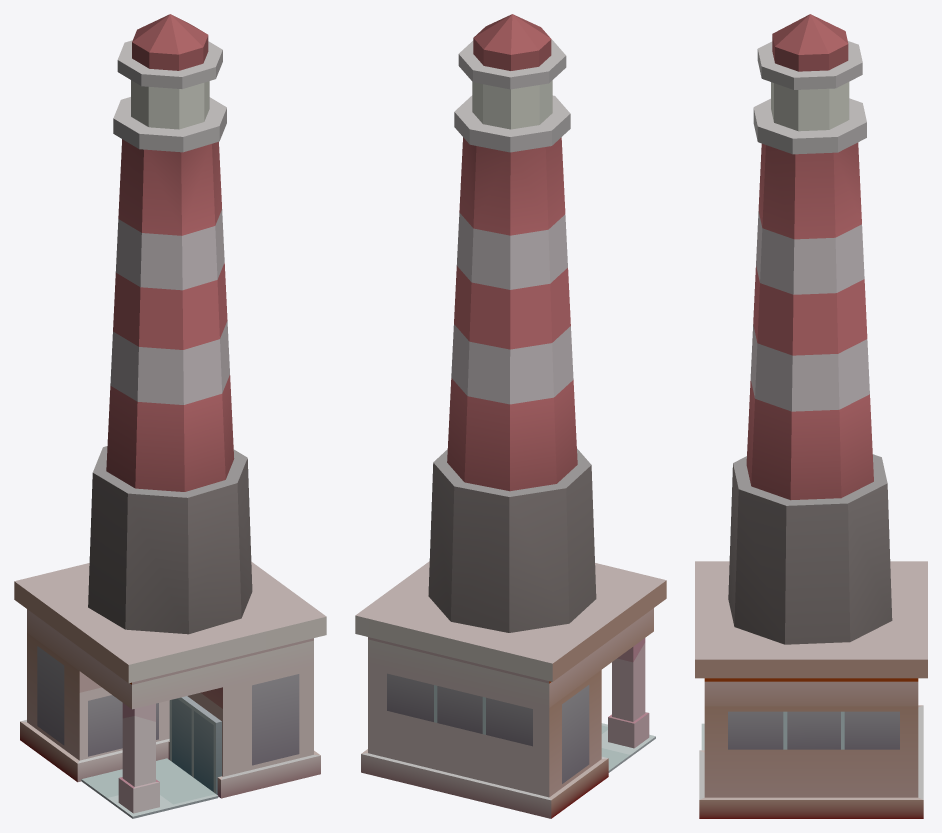
The model's file is Lightower.glb.
3 renders of one model, left to right at view 1: azimuth 30°, elevation 25°; view 2: azimuth 150°, elevation 25°; view 3: azimuth 270°, elevation 25°, orthographic. The views are drawn at different scales.
Parts seen in each view (by area): view 1: Lightower; view 2: Lightower; view 3: Lightower.
Part boxes in pixels (<box>): Lightower: <box>14,14,326,818</box>; Lightower: <box>355,14,666,818</box>; Lightower: <box>695,14,927,818</box>.
Size of the model in its own units: 1.84 by 6.61 by 1.84.
